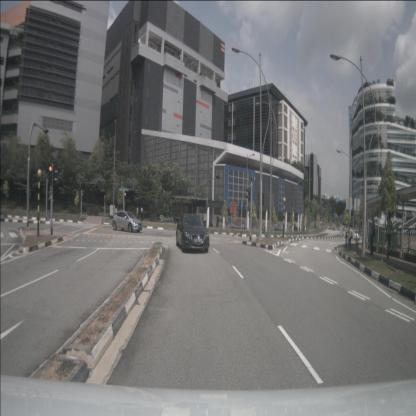human-pedestrian-adult: (386, 213, 393, 259), (370, 214, 376, 255), (346, 223, 352, 251), (136, 206, 139, 221), (141, 206, 143, 221)
vehicle-car: (176, 214, 210, 253), (113, 211, 142, 232), (354, 230, 359, 240)
